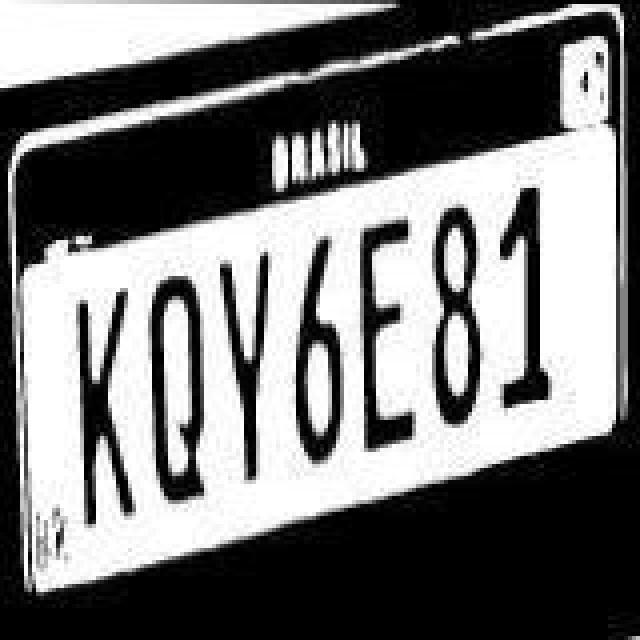1: (500, 182, 556, 426)
6: (290, 232, 350, 476)
8: (430, 194, 482, 442)
E: (358, 214, 418, 462)
K: (72, 284, 136, 532)
Q: (148, 272, 212, 508)
Y: (218, 252, 278, 504)
